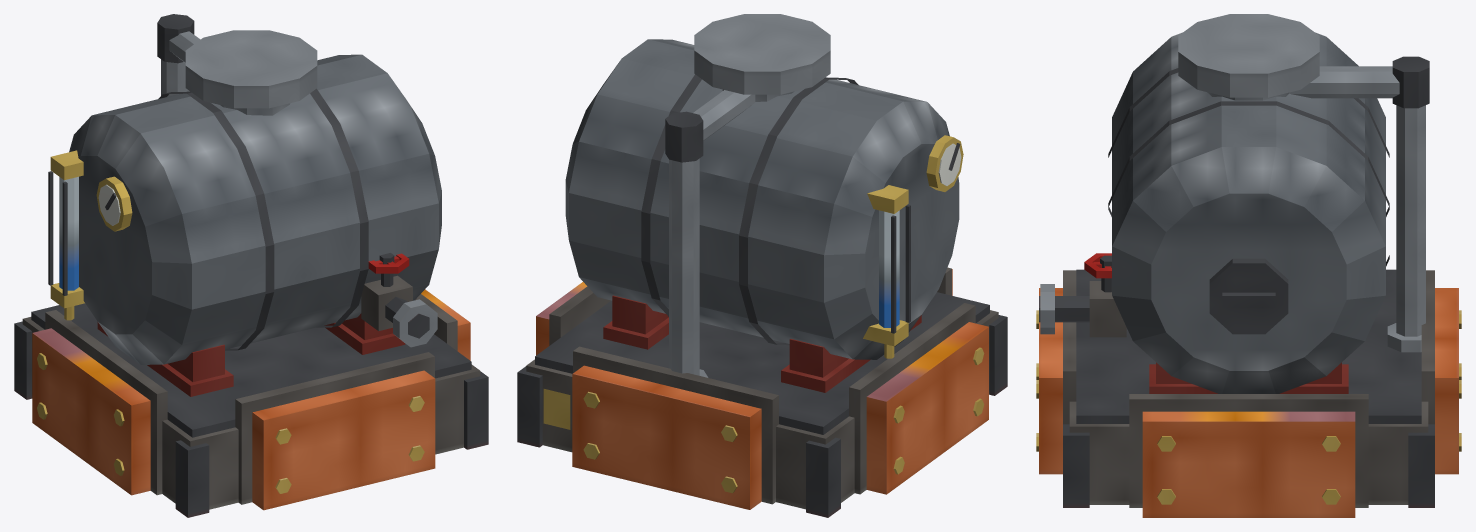
Rendered from boiler.obj.
3 renders of one model, left to right at view 1: azimuth 30°, elevation 25°; view 2: azimuth 150°, elevation 25°; view 3: azimuth 270°, elevation 25°, orthographic. The views are drawn at different scales.
Visible parts, largest first — view 1: main; view 2: main; view 3: main.
Boxes of the visible parts, x1=… form: main: x1=14, y1=14, x2=488, y2=517; main: x1=517, y1=14, x2=1007, y2=517; main: x1=1036, y1=14, x2=1461, y2=517.
Size of the model in its own units: 1 by 1 by 1.
1 material, 1 textured.
